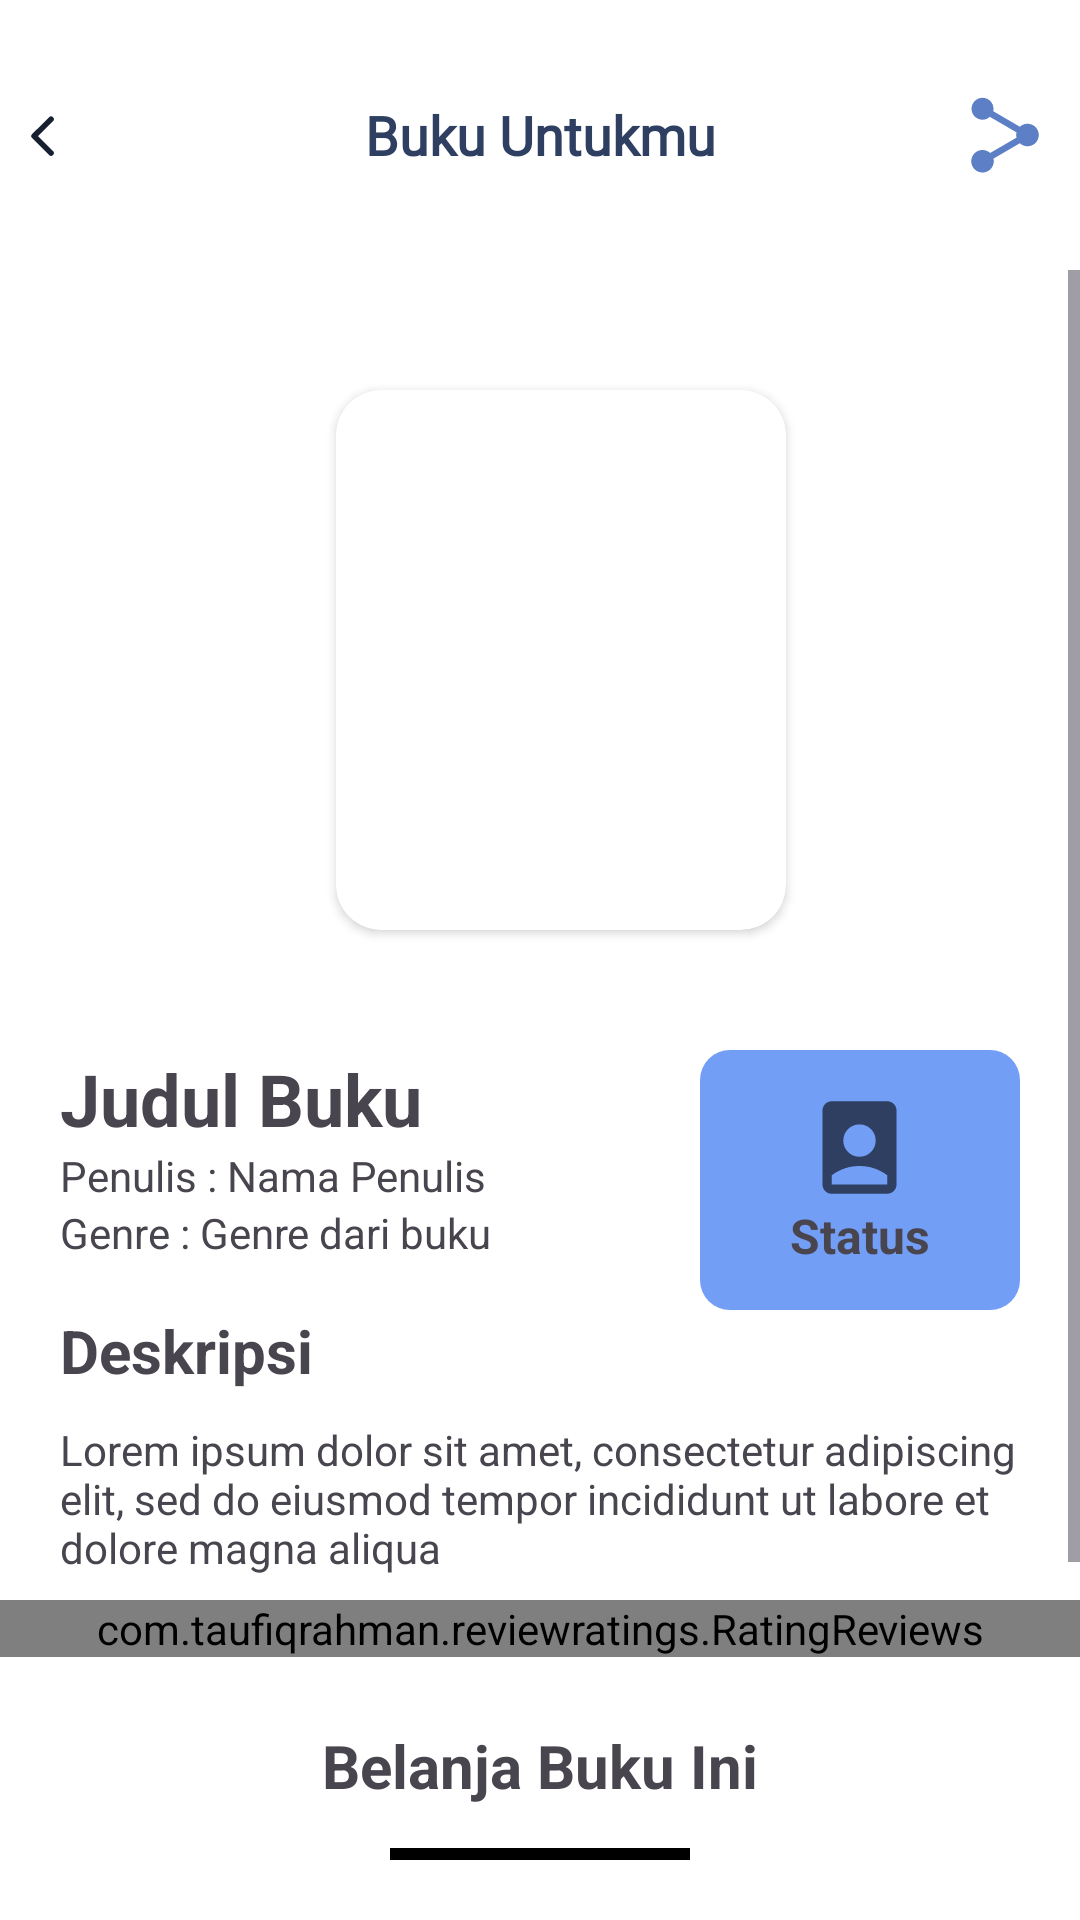

Named icons in this screenshot (1080px x 1920px) and their bounding boxes, (x1, y1, x2, y2):
profile in detail: (822, 1101, 897, 1194)
